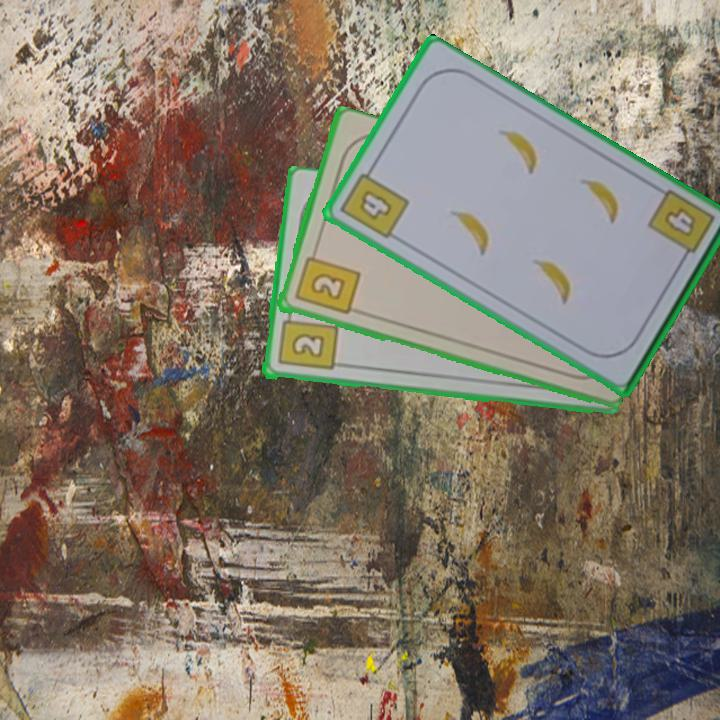2b: (291, 245, 362, 318), (274, 307, 339, 373)
4b: (336, 162, 412, 243), (644, 186, 718, 268)
